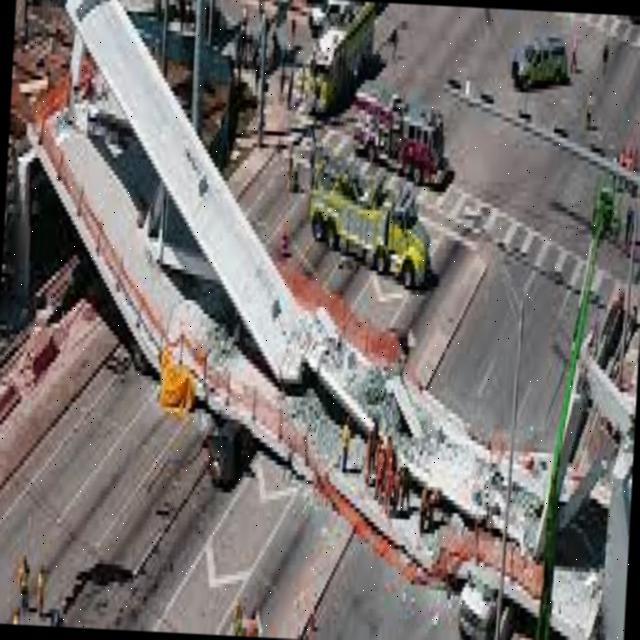bridge collapse: (42, 112, 640, 640)
